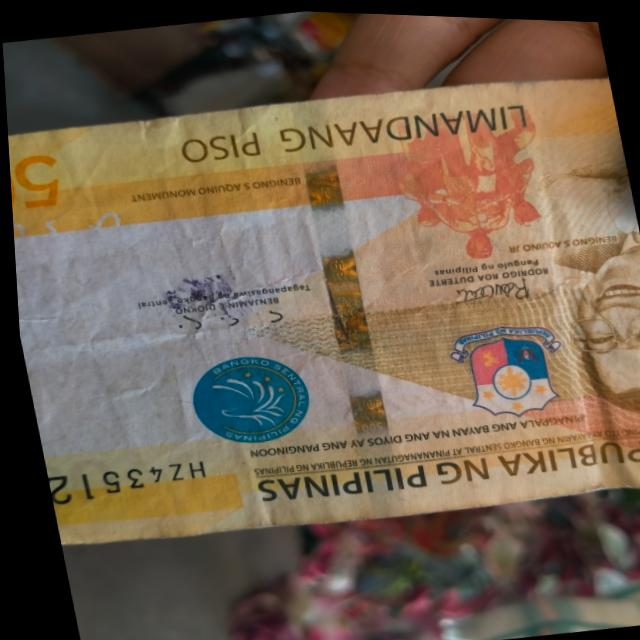security_thread: (282, 89, 405, 520)
serial_number: (38, 444, 220, 520)
